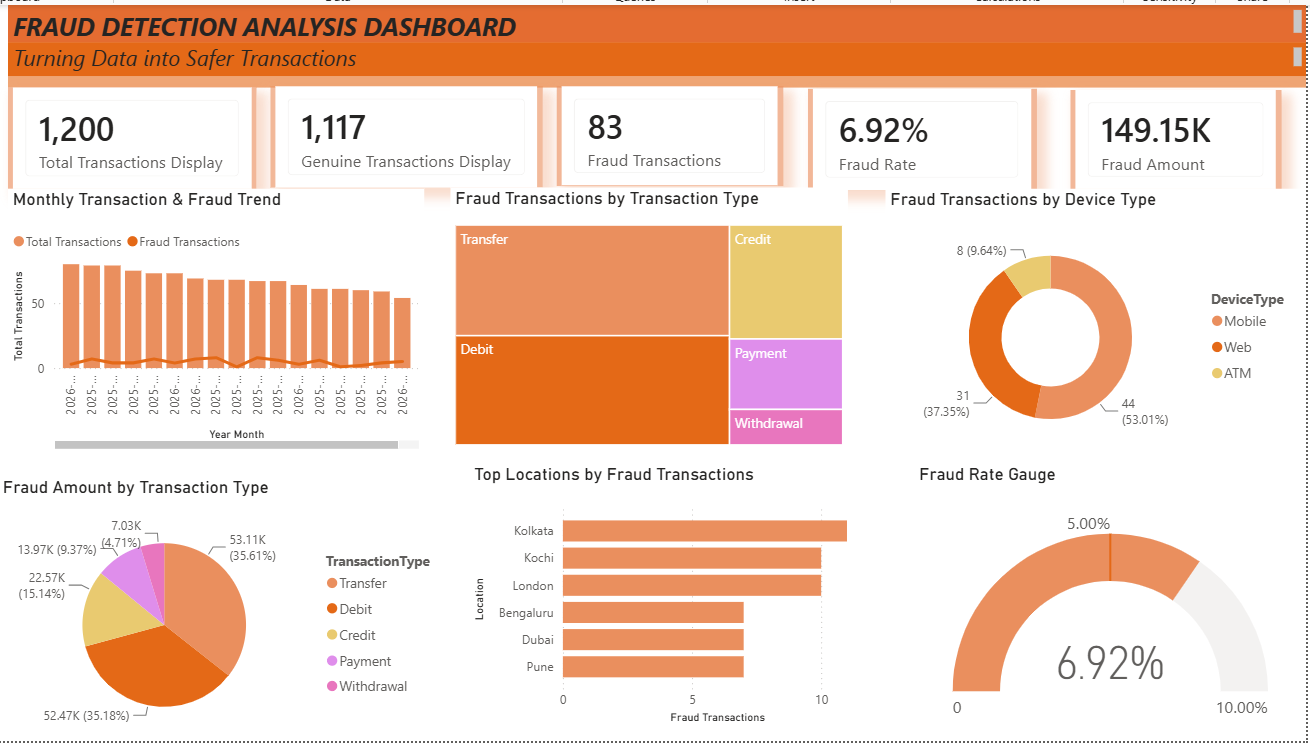

What the dashboard file says about the page in this screenshot:
{"tool":"powerbi","page":{"name":"Overview","canvas":[1280,720],"ordinal":1},"visuals":[{"type":"textbox","box":[9.8,0,1270.5,80.7],"z":0},{"type":"textbox","box":[9.8,0,1270.5,36.7],"z":1000},{"type":"textbox","box":[9.8,36.7,1270.5,33],"z":2000},{"type":"cardVisual","fields":{"Data":["Fact_Transactions.Total Transactions Display"]},"box":[9.8,80.7,243.3,99],"z":3000},{"type":"cardVisual","fields":{"Data":["Fact_Transactions.Genuine Transactions Display"]},"box":[266.3,79.5,266.6,99],"z":4000},{"type":"cardVisual","fields":{"Data":["Fact_Transactions.Fraud Transactions"]},"box":[546.6,79.5,221.3,97.8],"z":5000},{"type":"cardVisual","fields":{"Data":["Fact_Transactions.Fraud Rate"]},"box":[792.4,81.9,223.8,99],"z":6000},{"type":"cardVisual","fields":{"Data":["Fact_Transactions.Fraud Amount"]},"box":[1049.2,83.2,206.7,97.8],"z":7000},{"type":"lineClusteredColumnComboChart","title":"Monthly Transaction & Fraud Trend","fields":{"Y":["Fact_Transactions.Total Transactions"],"Y2":["Fact_Transactions.Fraud Transactions"],"Category":["Dim_Date.Year Month"]},"box":[9.8,179.8,407.2,259.2],"z":8000},{"type":"treemap","title":"Fraud Transactions by Transaction Type","fields":{"Group":["Fact_Transactions.TransactionType"],"Values":["Fact_Transactions.Fraud Amount"]},"box":[442.7,178.5,388.9,256.8],"z":9000},{"type":"donutChart","title":"Fraud Transactions by Device Type","fields":{"Category":["Fact_Transactions.DeviceType"],"Y":["Fact_Transactions.Fraud Transactions"]},"box":[868.2,179.8,412.1,259.2],"z":10000},{"type":"clusteredBarChart","title":"Top  Locations by Fraud Transactions","fields":{"Category":["Fact_Transactions.Location"],"Y":["Fact_Transactions.Fraud Transactions"]},"box":[461,448.8,407,259],"z":11000},{"type":"pieChart","title":"Fraud Amount by Transaction Type","fields":{"Category":["Fact_Transactions.TransactionType"],"Y":["Fact_Transactions.Fraud Amount"]},"box":[0,461,442.7,259.2],"z":12000},{"type":"gauge","title":"Fraud Rate Gauge","fields":{"Y":["Fact_Transactions.Fraud Rate"],"MinValue":["Dim_Date.Fraud Rate Minimum"],"MaxValue":["Dim_Date.Fraud Rate Maximum"],"TargetValue":["Dim_Date.Fraud Rate Target"]},"box":[896.3,448.8,384,259.2],"z":13000}]}

Visuals, with their boxes on the page's 1280x720 design canvas (x1, y1, x2, y2). These are canvas units, not pixel positions in the 1310x745 screenshot, which may show the page scaled, cropped or inside an application window:
textbox: [left=10, top=0, right=1280, bottom=81]
textbox: [left=10, top=0, right=1280, bottom=37]
textbox: [left=10, top=37, right=1280, bottom=70]
cardVisual - Fact_Transactions.Total Transactions Display: [left=10, top=81, right=253, bottom=180]
cardVisual - Fact_Transactions.Genuine Transactions Display: [left=266, top=80, right=533, bottom=178]
cardVisual - Fact_Transactions.Fraud Transactions: [left=547, top=80, right=768, bottom=177]
cardVisual - Fact_Transactions.Fraud Rate: [left=792, top=82, right=1016, bottom=181]
cardVisual - Fact_Transactions.Fraud Amount: [left=1049, top=83, right=1256, bottom=181]
"Monthly Transaction & Fraud Trend" lineClusteredColumnComboChart: [left=10, top=180, right=417, bottom=439]
"Fraud Transactions by Transaction Type" treemap: [left=443, top=178, right=832, bottom=435]
"Fraud Transactions by Device Type" donutChart: [left=868, top=180, right=1280, bottom=439]
"Top  Locations by Fraud Transactions" clusteredBarChart: [left=461, top=449, right=868, bottom=708]
"Fraud Amount by Transaction Type" pieChart: [left=0, top=461, right=443, bottom=720]
"Fraud Rate Gauge" gauge: [left=896, top=449, right=1280, bottom=708]
